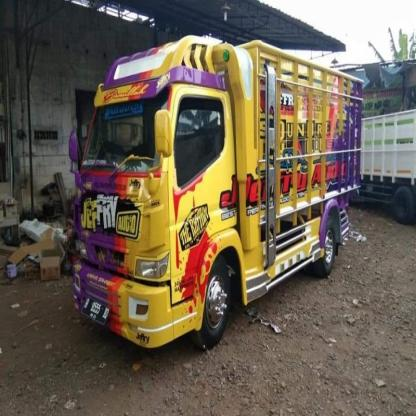truck: (70, 38, 363, 352)
